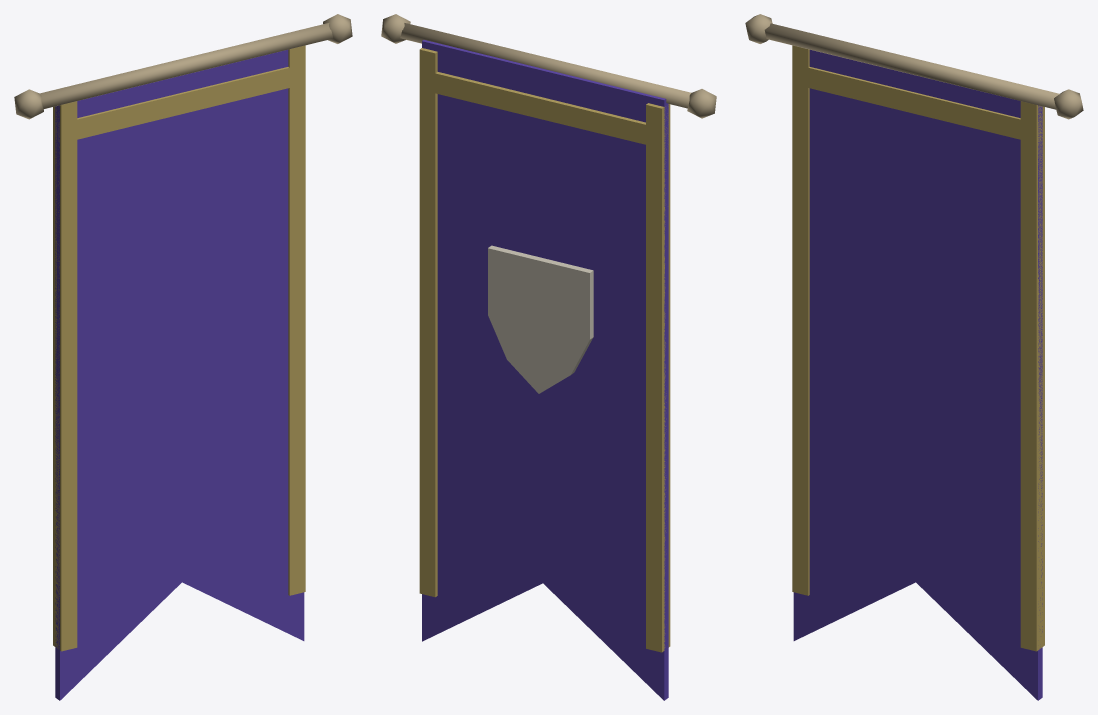
The model's file is etherian_wyvern_banner_v0.glb.
3 renders of one model, left to right at view 1: azimuth 30°, elevation 25°; view 2: azimuth 150°, elevation 25°; view 3: azimuth 330°, elevation 25°, orthographic.
Parts seen in each view (by area): view 1: etherian_wyvern_banner_v0; view 2: etherian_wyvern_banner_v0; view 3: etherian_wyvern_banner_v0.
Boxes of the visible parts, bbox=[...] form: etherian_wyvern_banner_v0: bbox=[14, 14, 352, 700]; etherian_wyvern_banner_v0: bbox=[381, 14, 716, 700]; etherian_wyvern_banner_v0: bbox=[745, 14, 1083, 700].
Bounding box in the file's own units: 1.04 × 1.84 × 0.0933.
